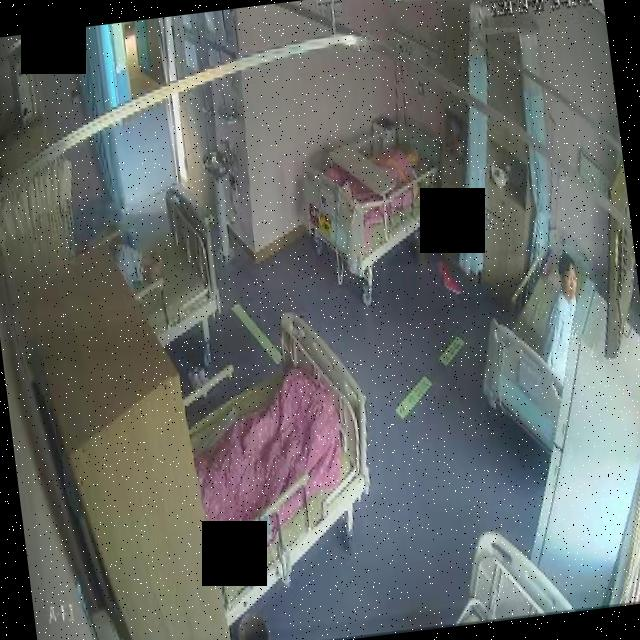bed: (175, 306, 386, 590), (279, 100, 454, 306), (466, 246, 608, 462), (108, 181, 226, 352)
patient: (520, 250, 588, 388)
